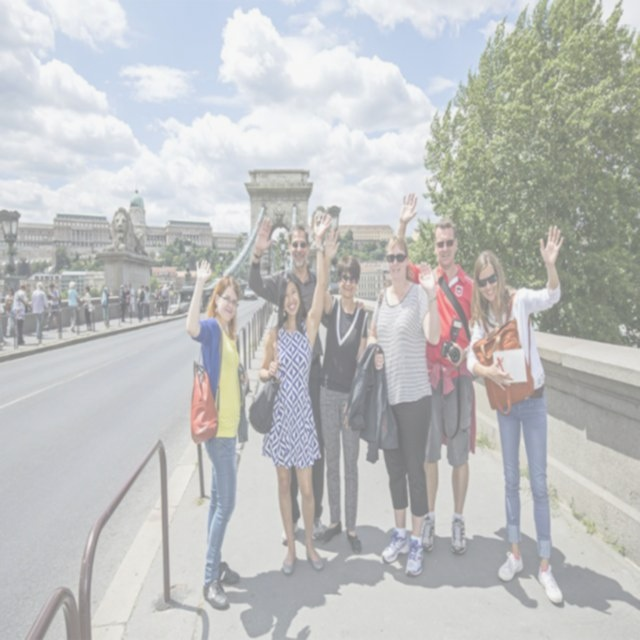pessoa: (464, 220, 572, 607), (247, 215, 368, 548), (341, 231, 442, 581), (395, 189, 477, 556), (248, 214, 328, 546), (184, 255, 252, 614), (313, 223, 376, 557), (30, 280, 50, 340), (11, 283, 30, 346), (41, 282, 64, 333), (67, 279, 79, 333), (81, 285, 93, 332), (0, 302, 12, 348), (100, 286, 112, 327), (160, 283, 170, 318), (123, 283, 132, 319), (119, 284, 127, 324), (4, 286, 15, 315), (126, 282, 136, 313), (152, 283, 162, 313), (143, 284, 151, 318), (136, 284, 142, 320), (168, 281, 175, 291)
